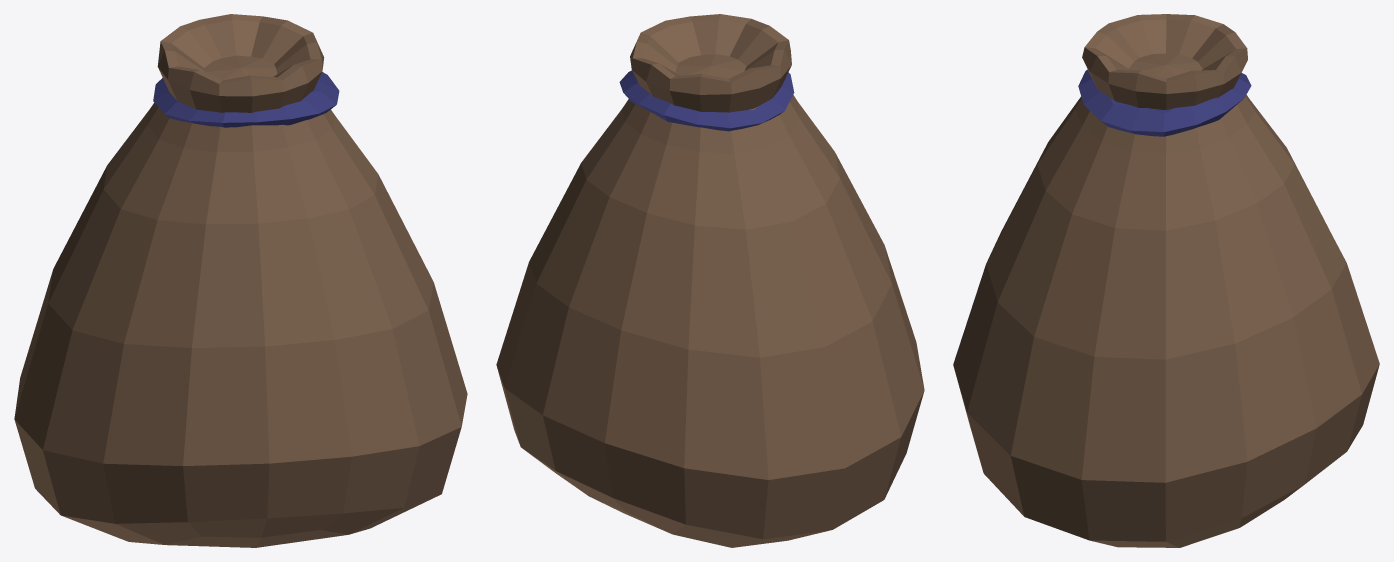
The model's file is Bag_Standing.glb.
3 renders of one model, left to right at view 1: azimuth 30°, elevation 25°; view 2: azimuth 150°, elevation 25°; view 3: azimuth 270°, elevation 25°, orthographic. The views are drawn at different scales.
Parts seen in each view (by area): view 1: Bag_Standing; view 2: Bag_Standing; view 3: Bag_Standing.
Boxes of the visible parts, box(x1,y1,x2,y2) form: Bag_Standing: box(14, 14, 467, 547); Bag_Standing: box(496, 14, 924, 547); Bag_Standing: box(953, 14, 1379, 547).
Bounding box in the file's own units: 0.2178 × 0.2527 × 0.2099.
